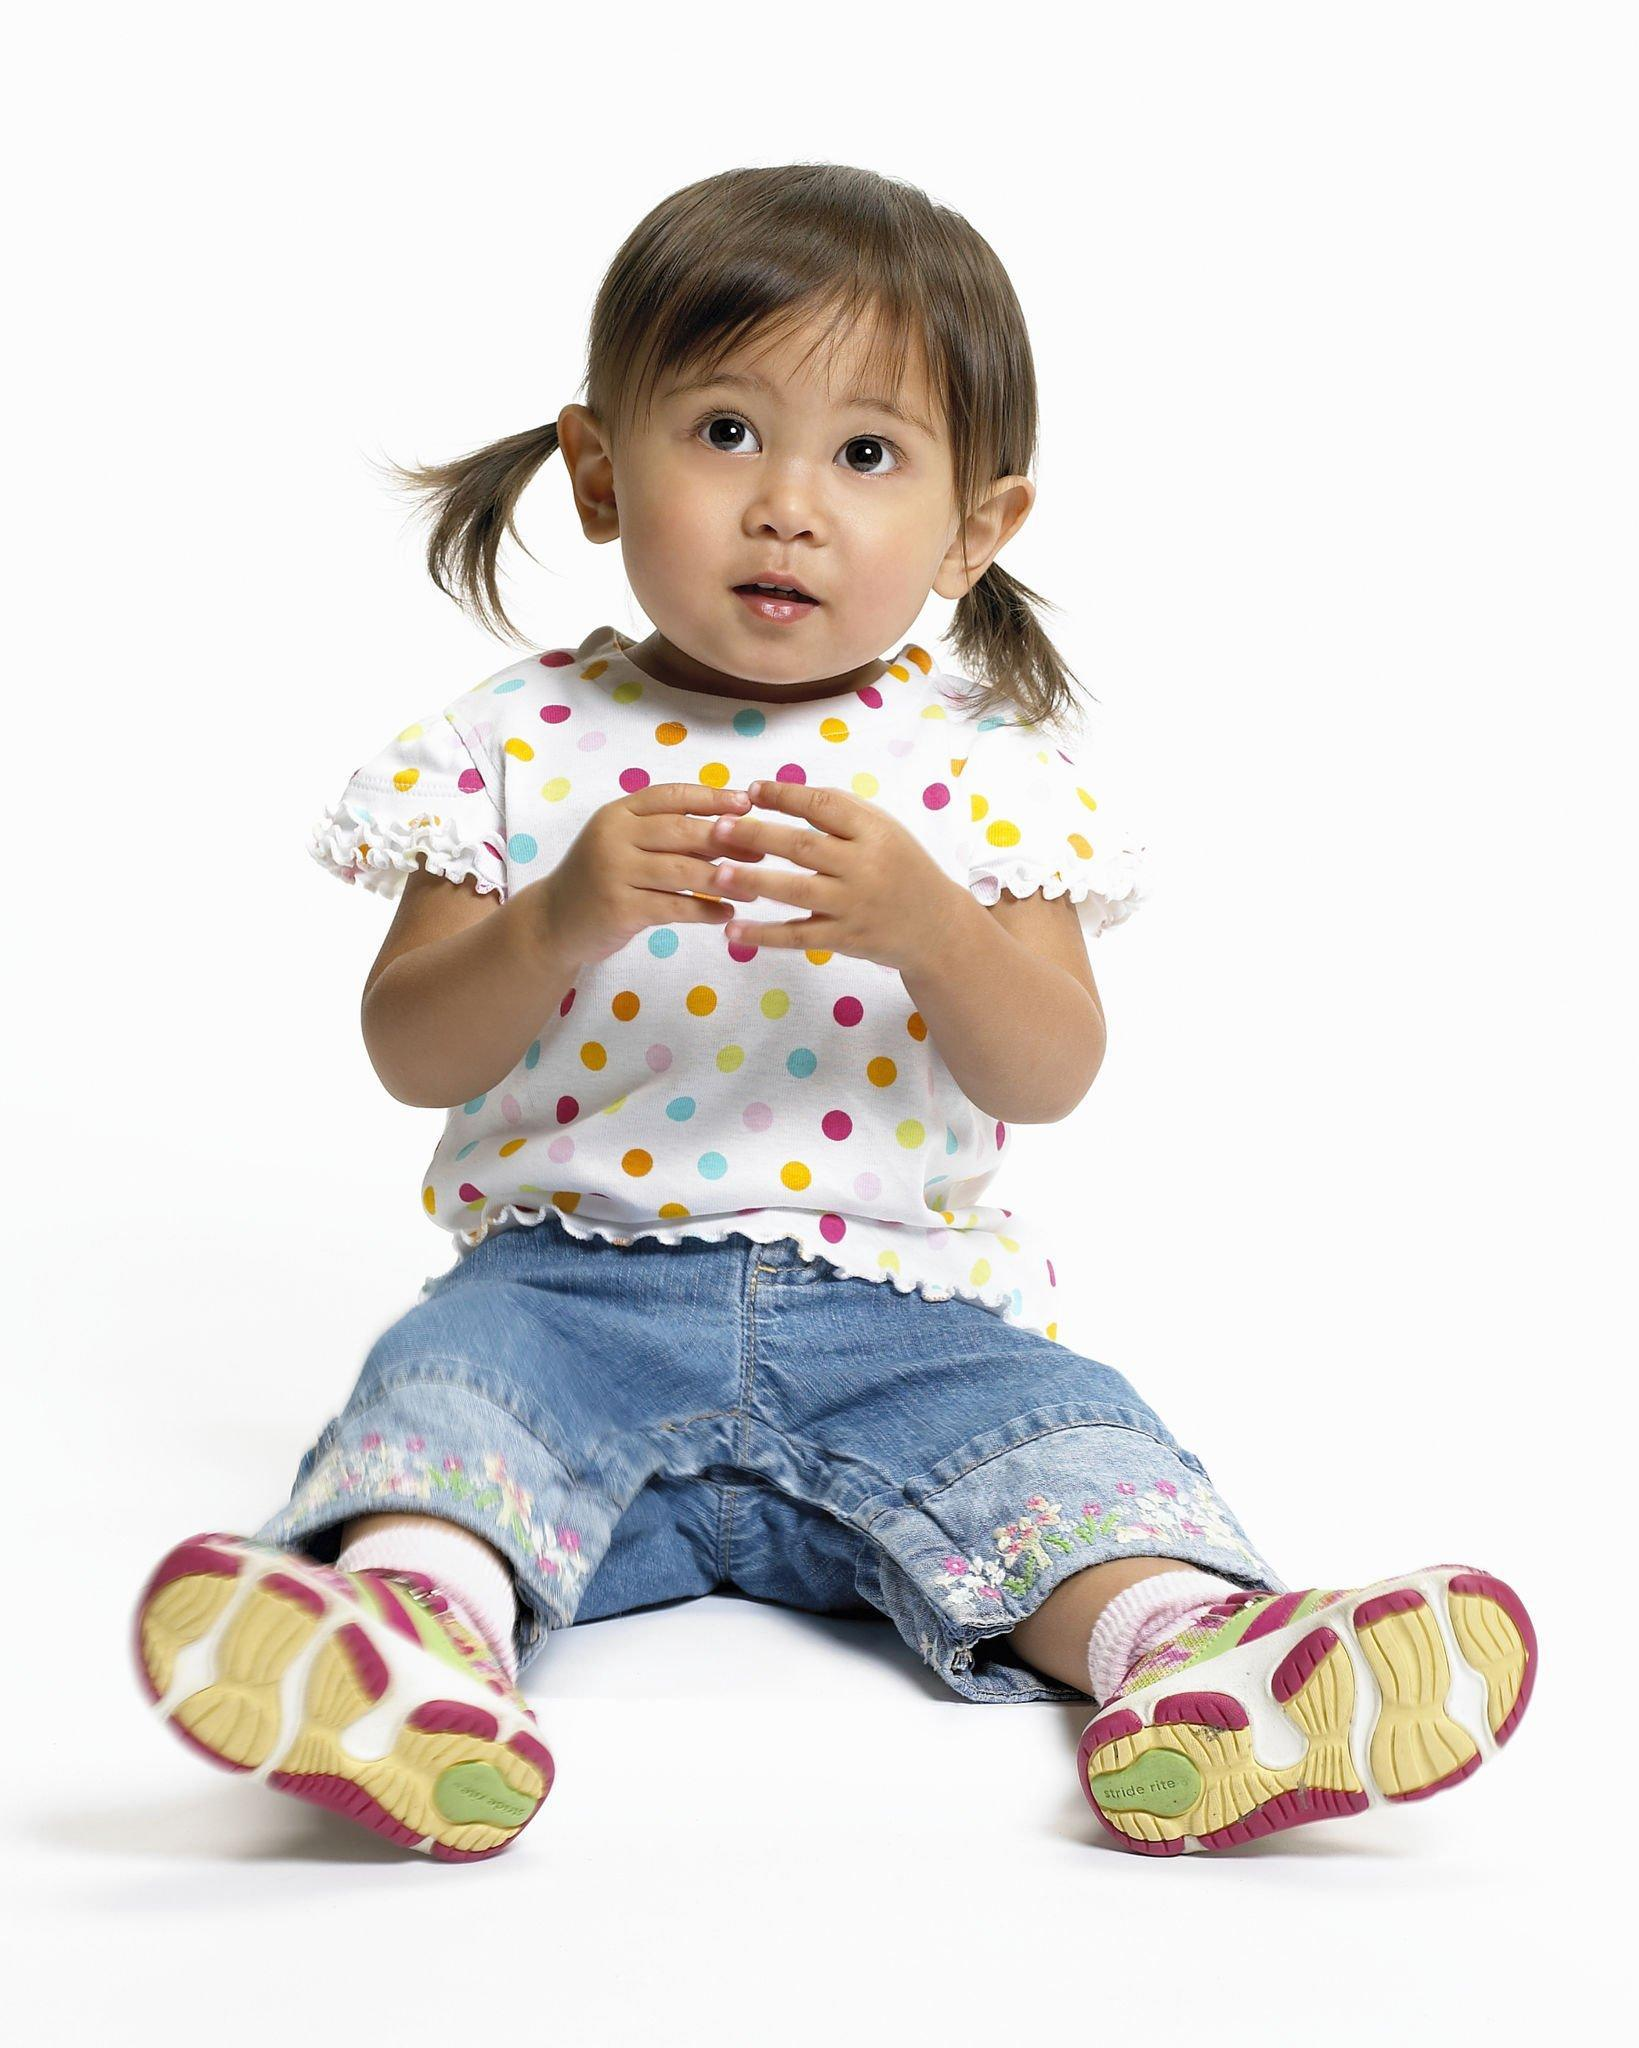Healthy: (572, 232, 1003, 685)
